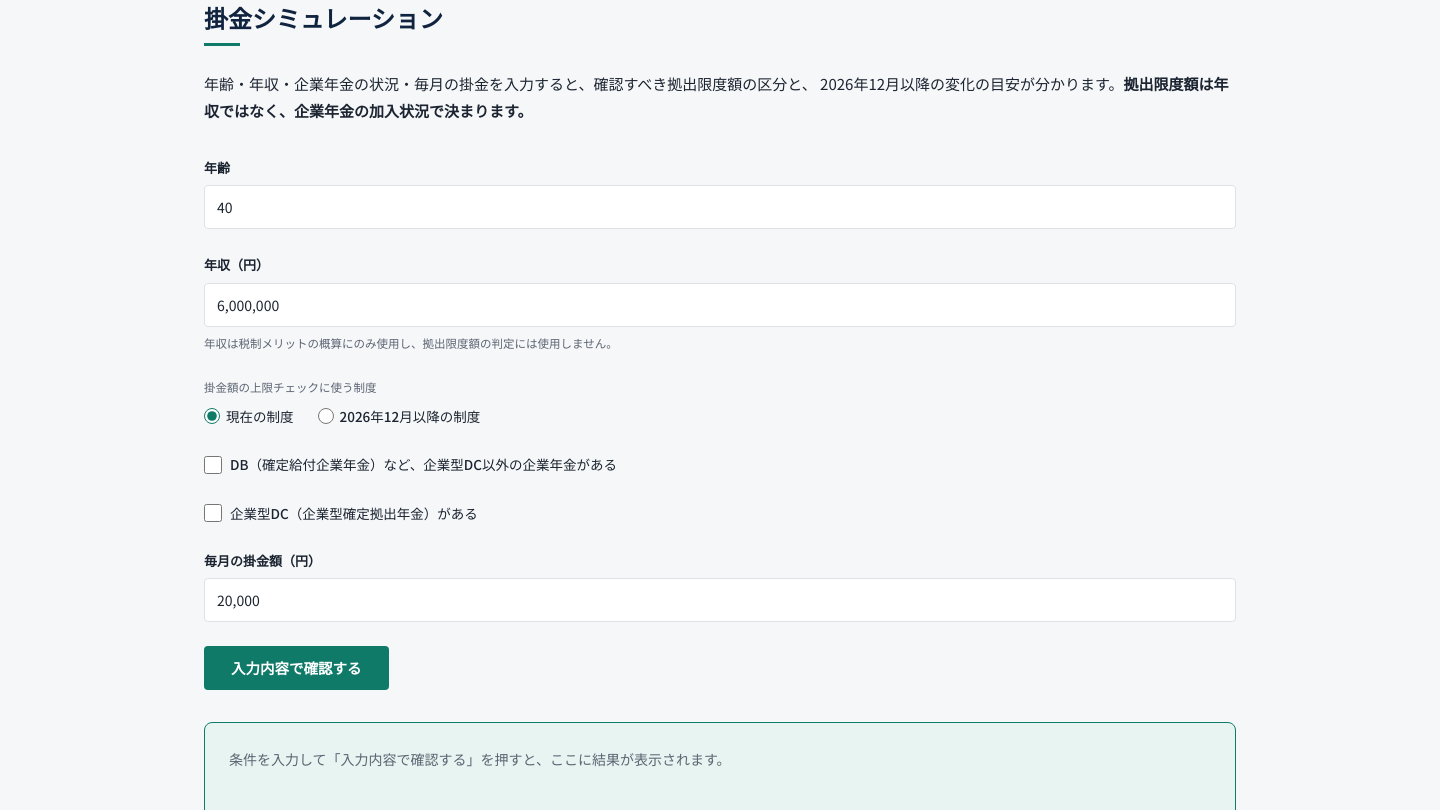
SimulatorSection › 年齢・年収の入力UX › カンマ区切り表示の年収・掛金額でも、送信時の計算結果は正しい値になる（表示のカンマが計算に影響しない）
This screenshot has width=1440, height=810.
Replace the text in the field labelled "年収（円）" with "9000000" at (720, 305), box [204,283,1236,327]
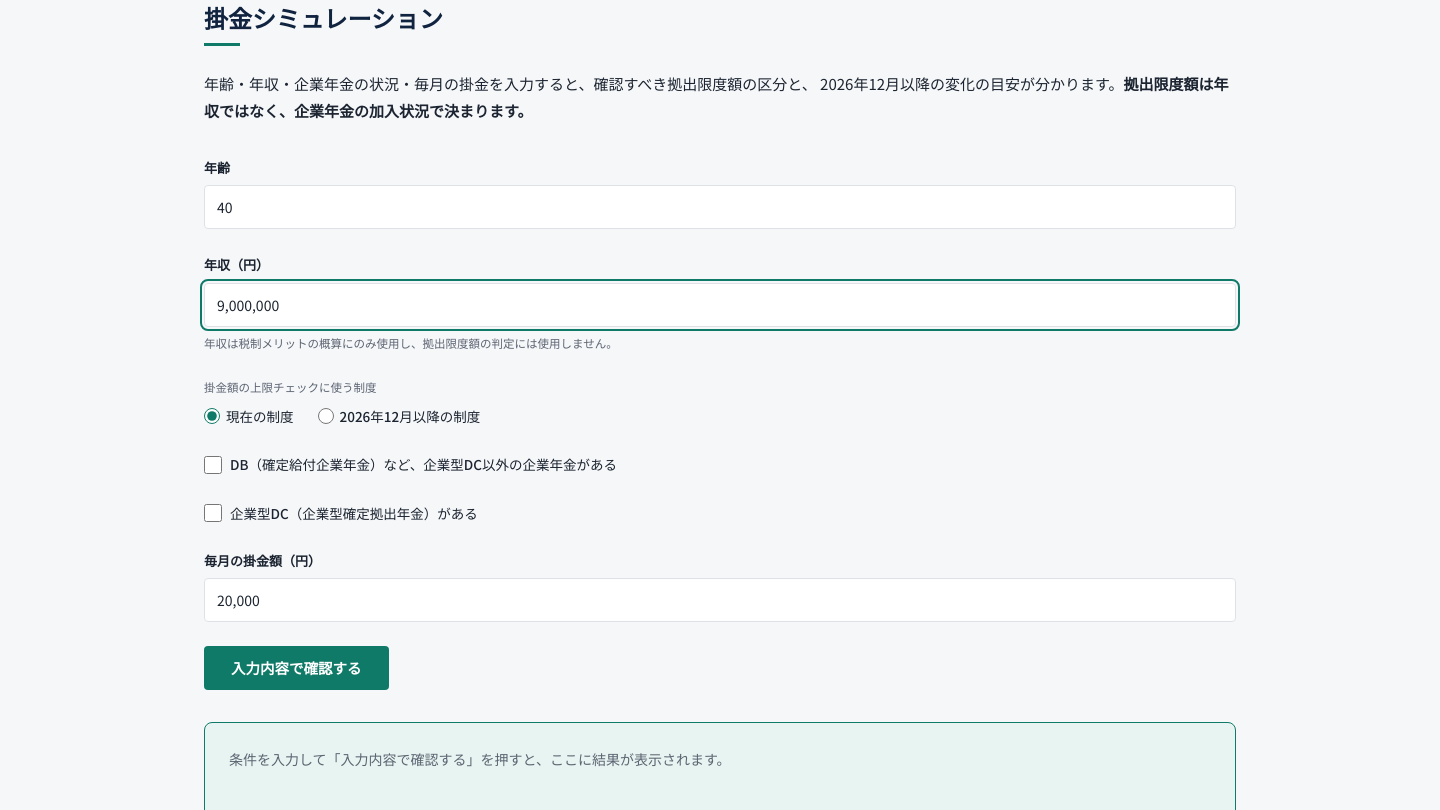
Expected: the field labelled "年収（円）" holds "9,000,000", [204,283,1236,327]
Replace the text in the field labelled "毎月の掛金額（円）" with "23000" at (720, 600), box [204,578,1236,622]
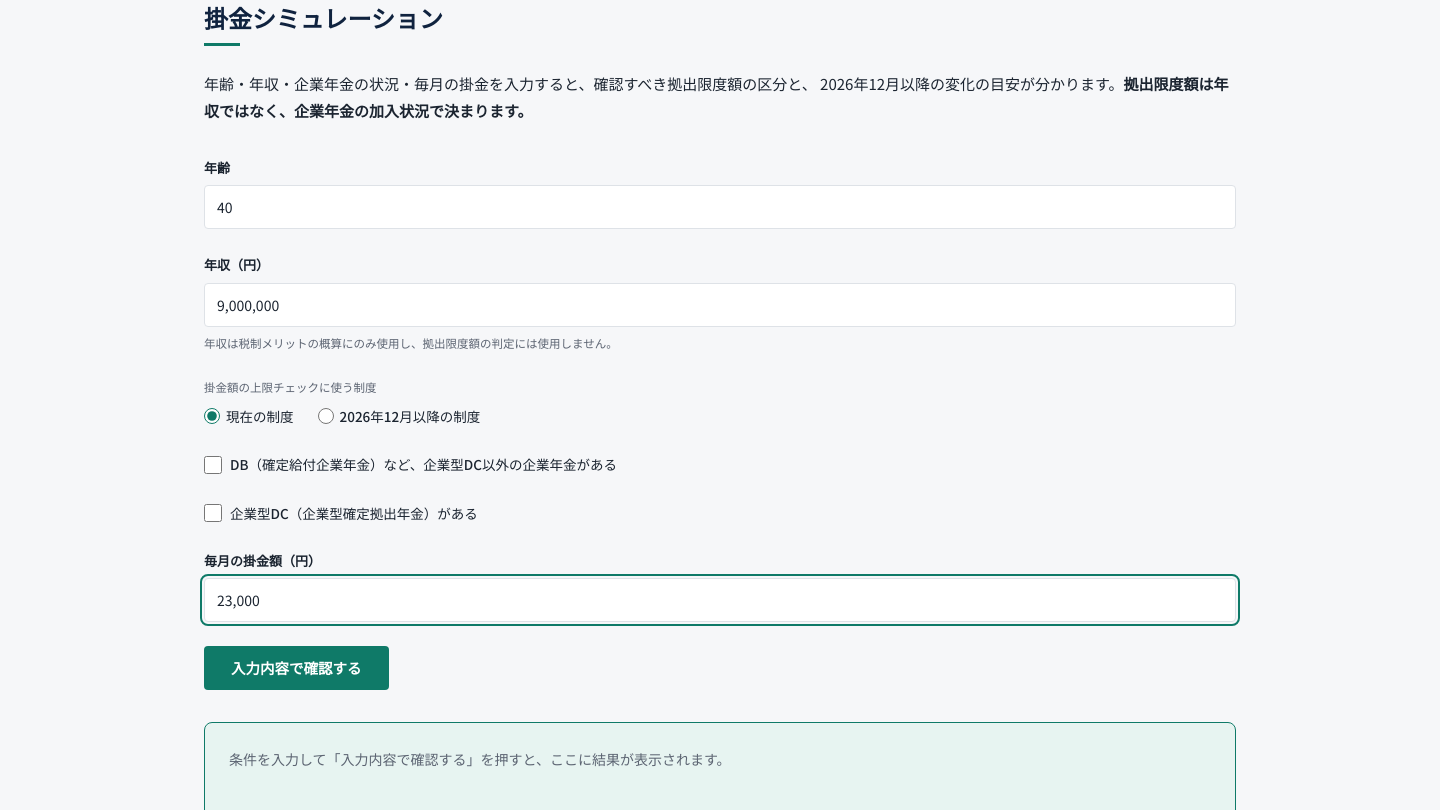
Expected: the field labelled "毎月の掛金額（円）" holds "23,000", [204,578,1236,622]
Click the button "入力内容で確認する" at (296, 668), box [204,646,388,690]
(page scrolled)
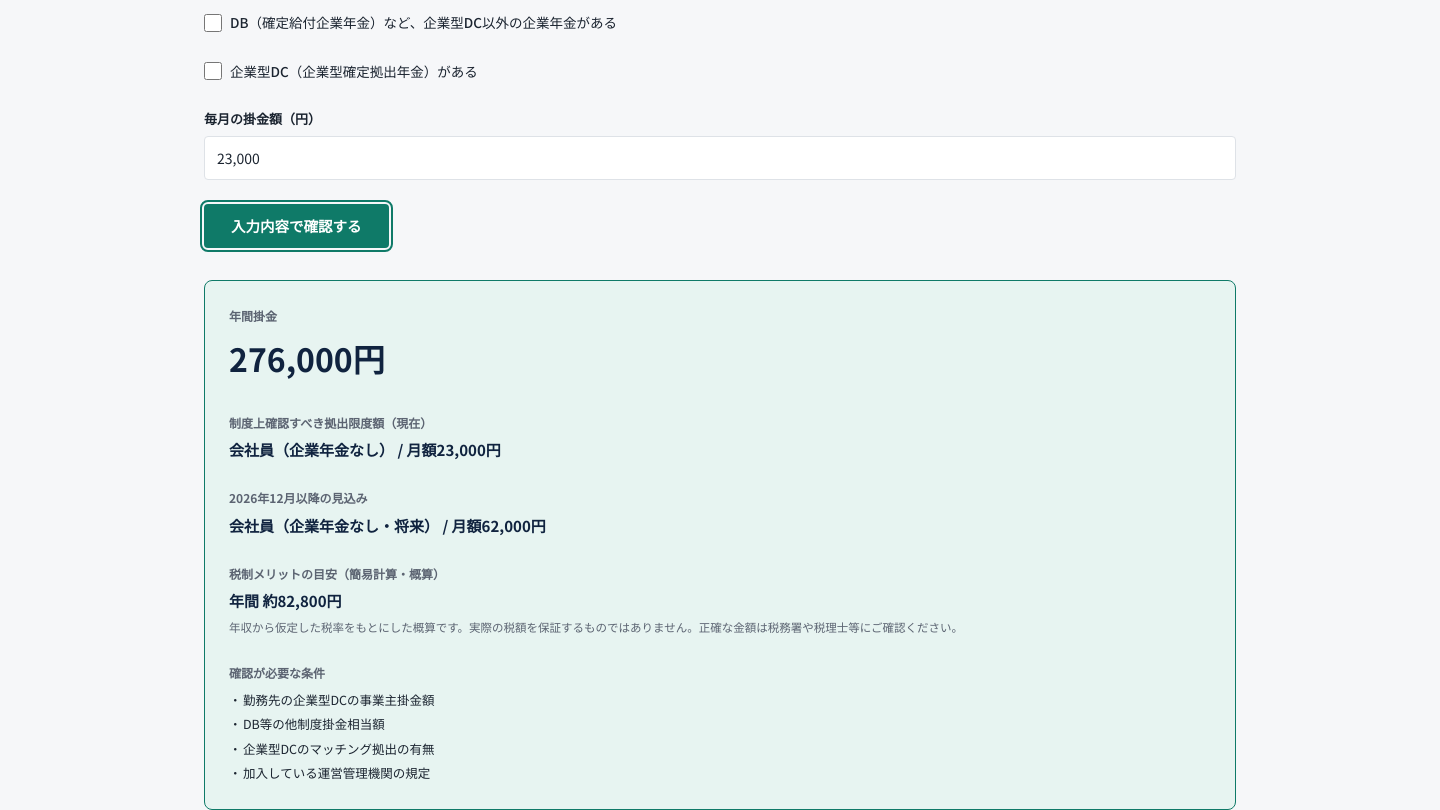
Expected: the text "276,000円" is shown, [229,335,385,381]
Expected: the text "年間 約82,800円" is shown, [229,590,342,611]
